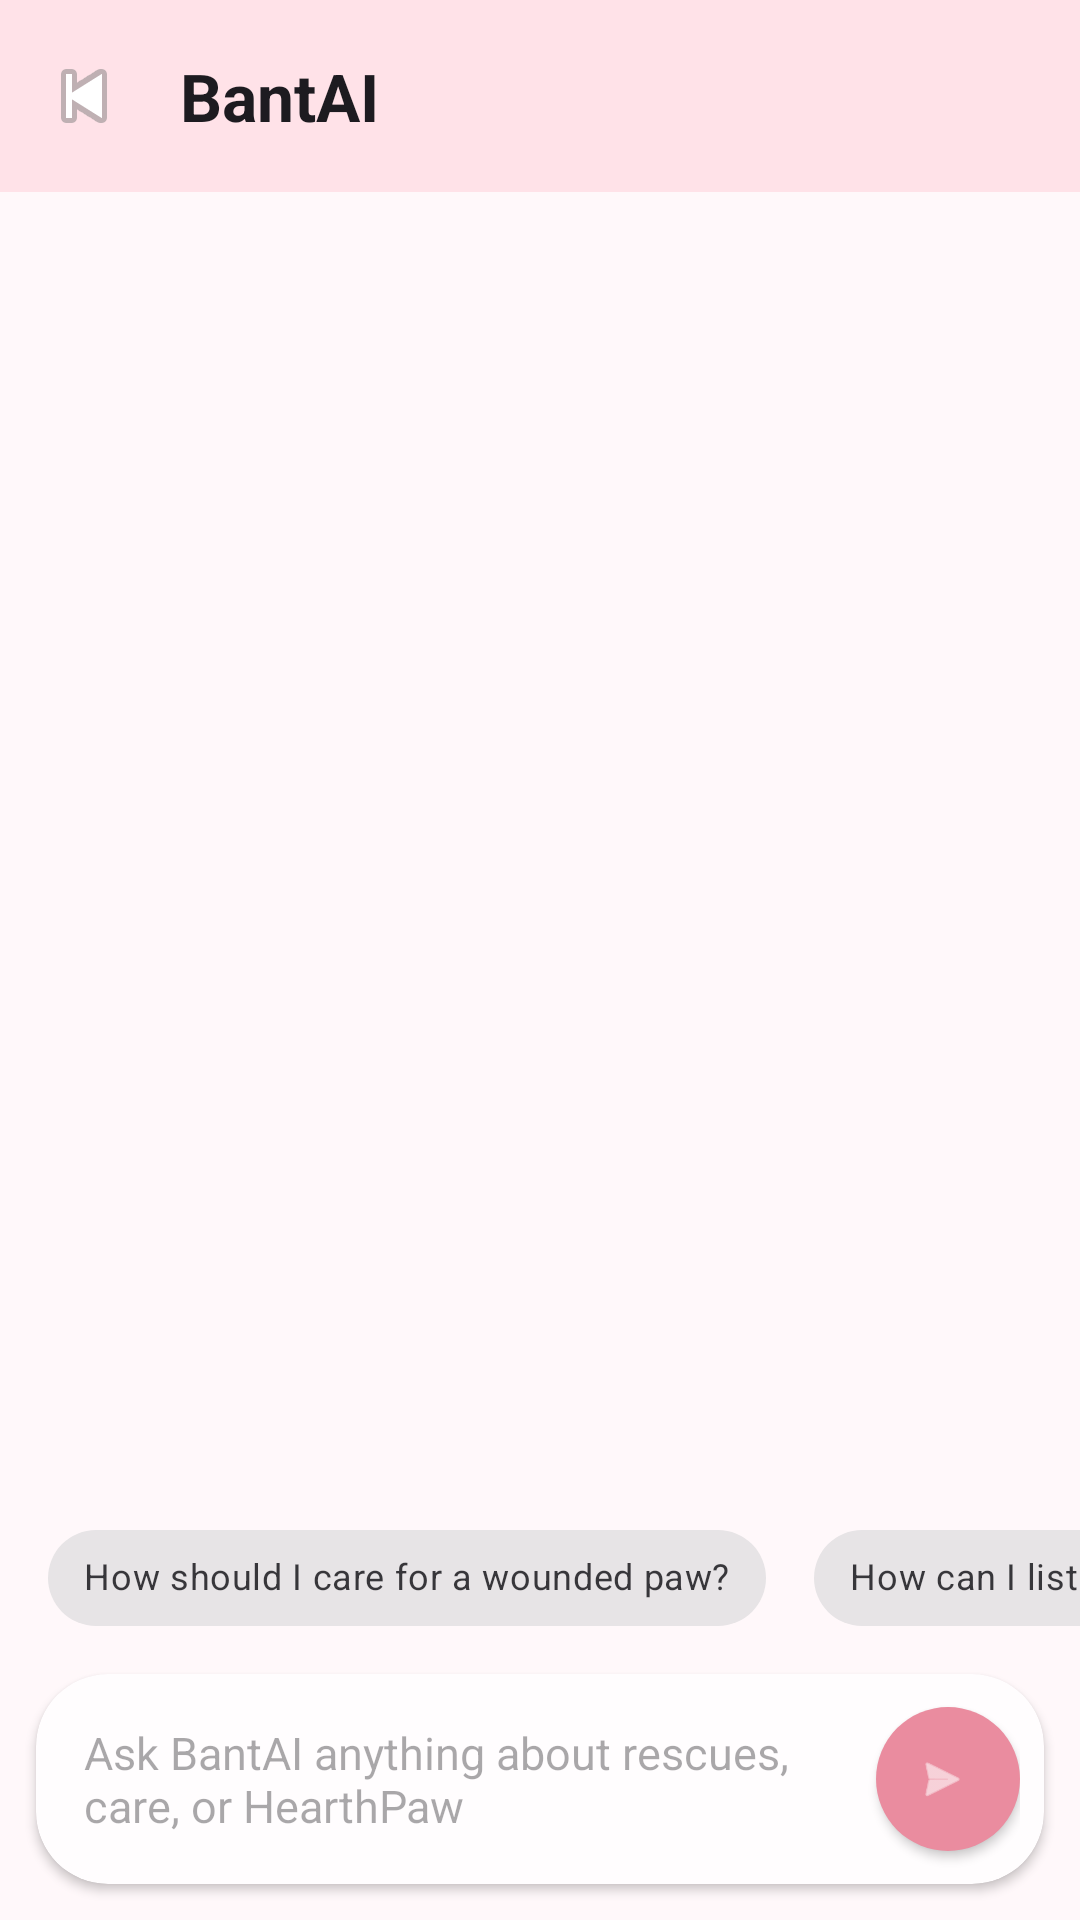

Where to tap for icons on this 1080 × 1920 app screen, as (x=x, y=y):
send: (x=948, y=1779)
